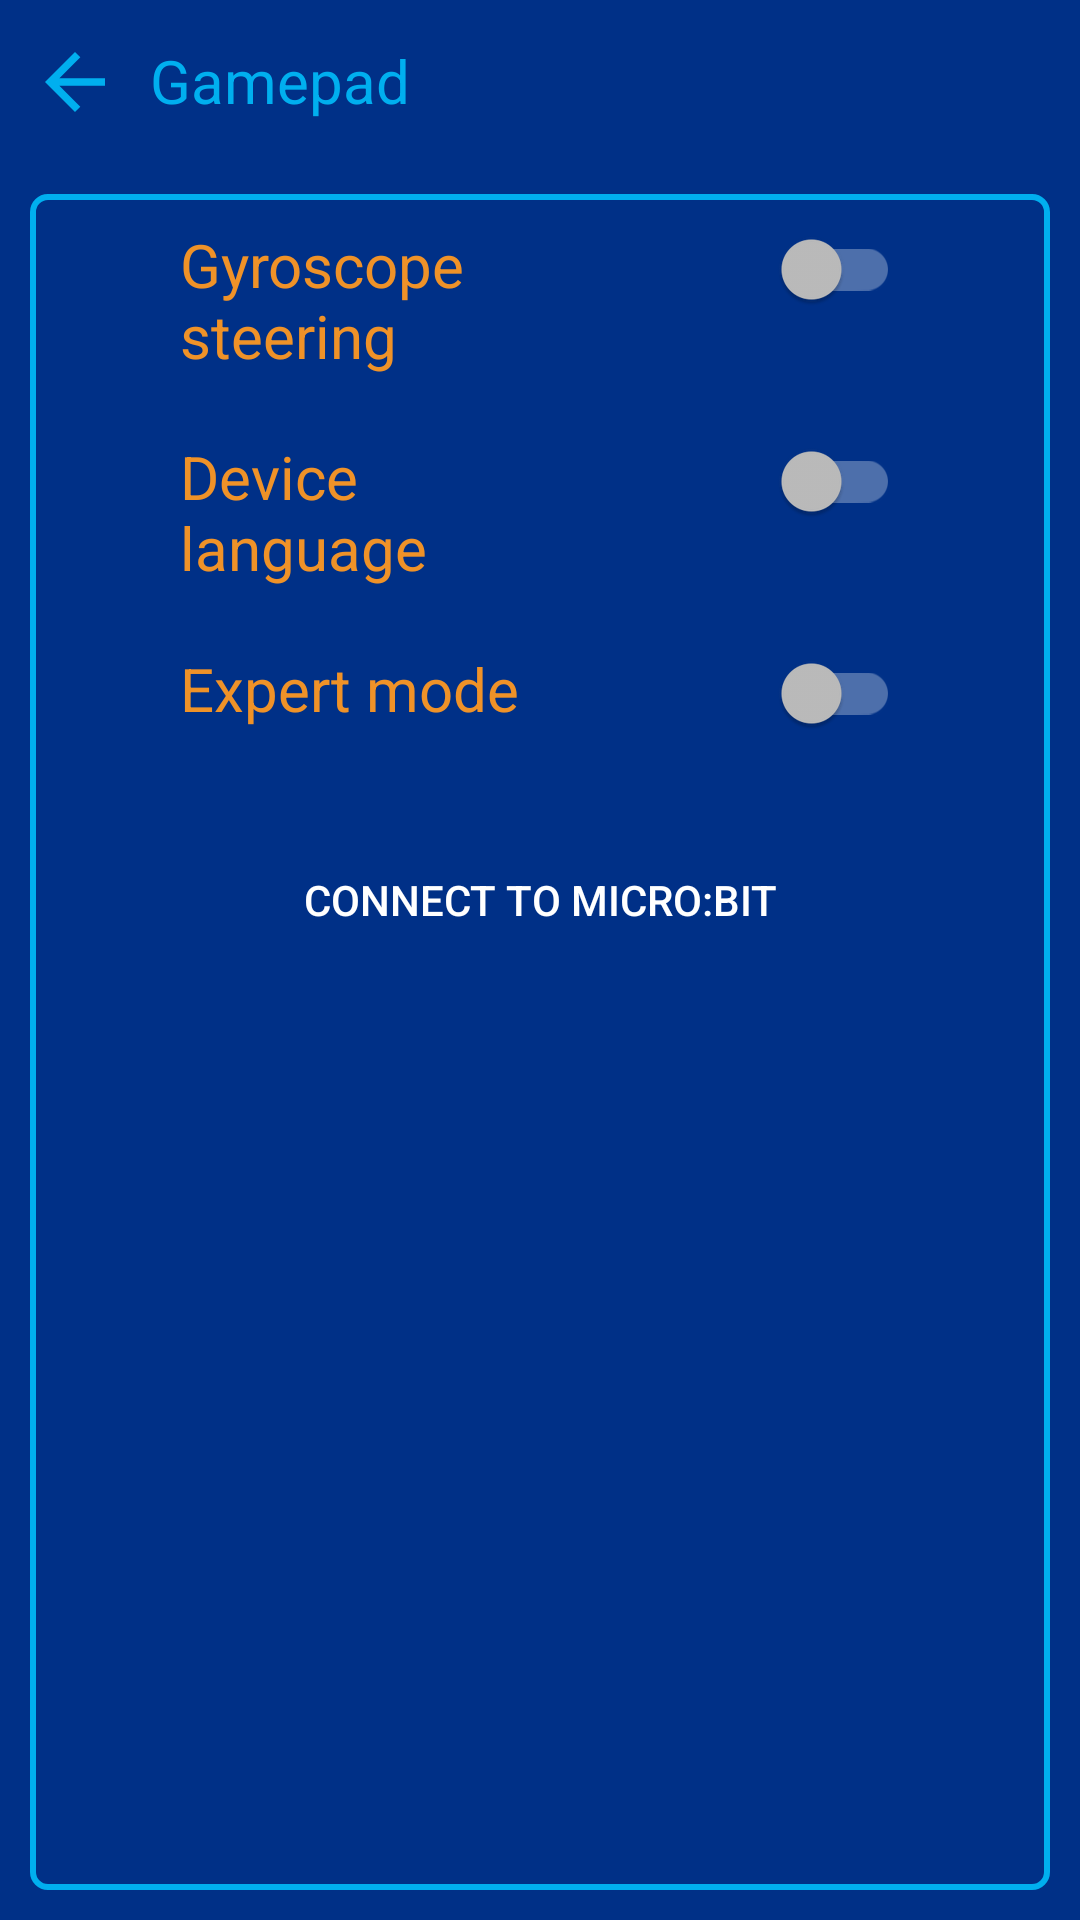

Icon click points for this 1080 x 1920 phone screenshot, format point (x, y):
arrow back: point (75, 82)
